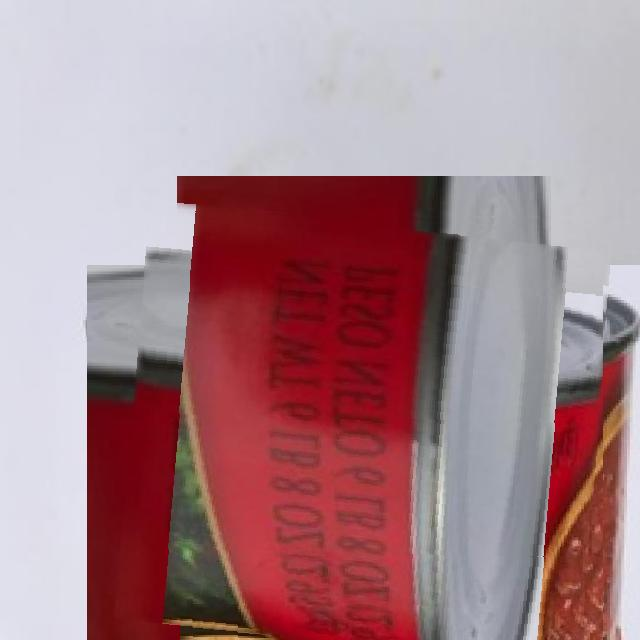recyclable: (122, 210, 603, 640)
